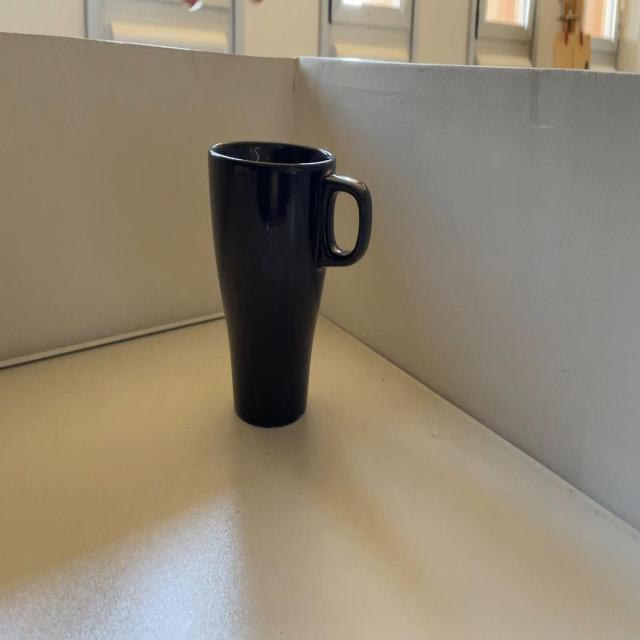cup: (204, 143, 377, 424)
